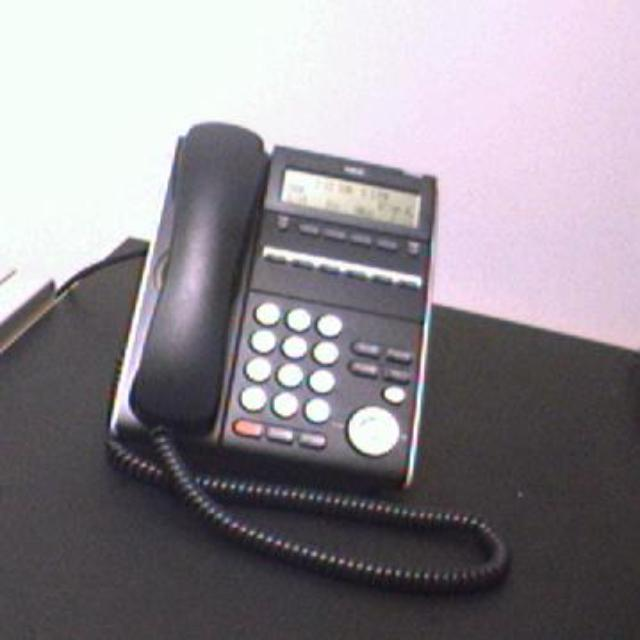Telephone-Set: (105, 120, 445, 493)
